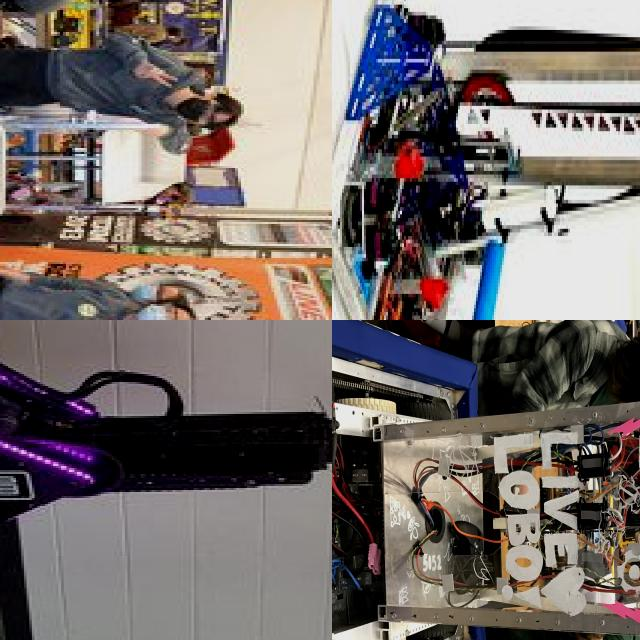FRC-Robots: (0, 320, 332, 640), (332, 0, 640, 320), (332, 320, 640, 640), (0, 99, 207, 229)
